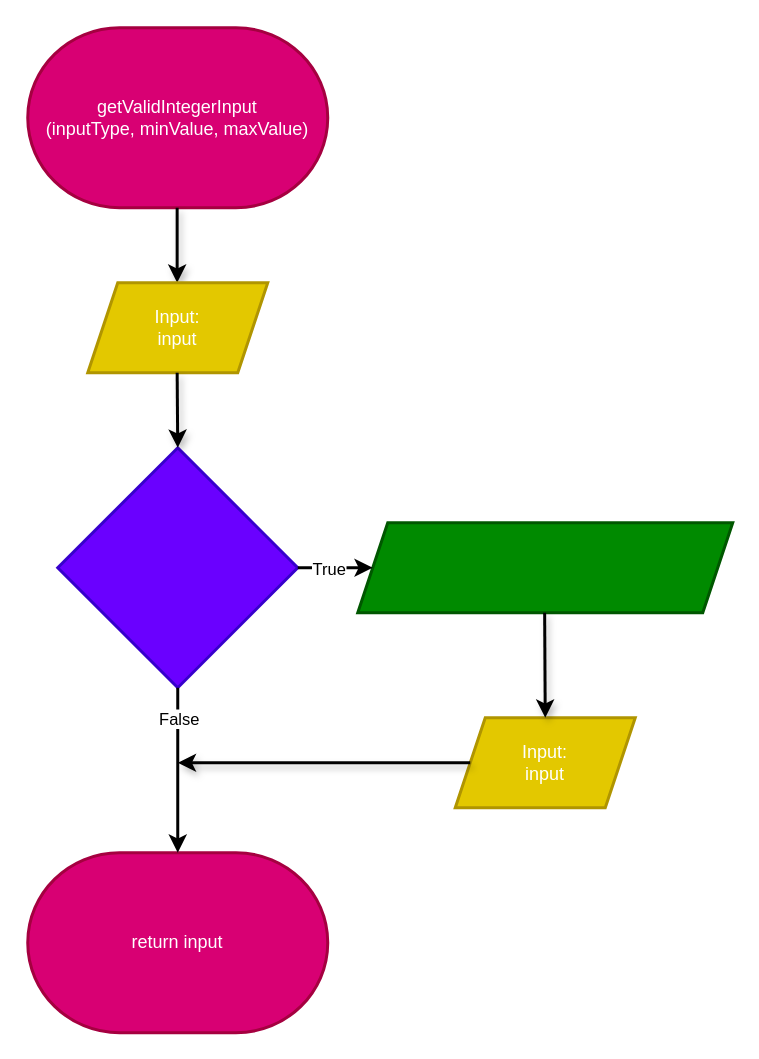
Some shapes in this 759 by 1059 pixel diagram are drawn without their labels. Here are the shapes that lost their labels. From the top down, the centre of each, then its label:
(177,567): input.length() != 1 || !std::islpha(input[0])
(545,567): Prompt: "Please enter a valid input (Y/N): "
